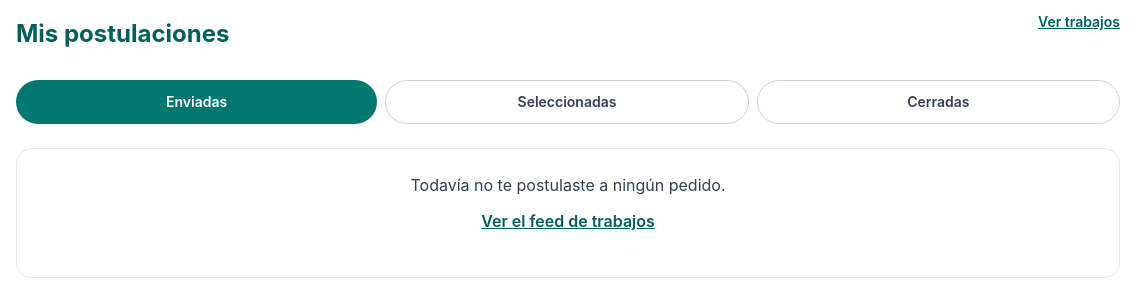
Scenario: MisPostulacionesPage › cambia de pestaña y pide el grupo correspondiente
Click the tab "Seleccionadas": coordinates (567, 102) [385,80,749,124]
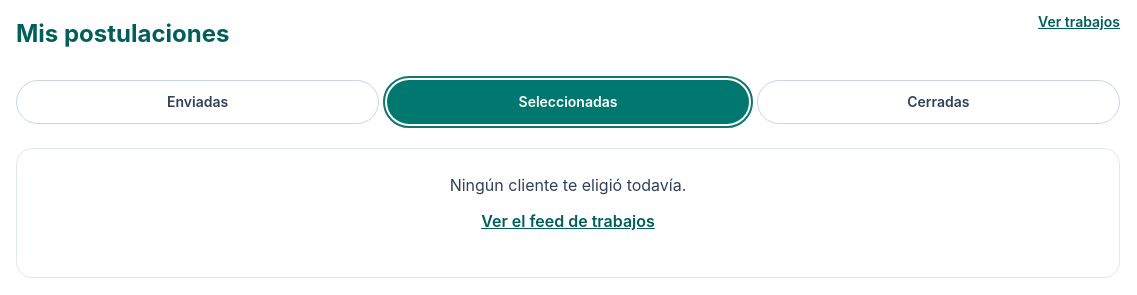
Check: the text "Ningún cliente te eligió todavía." is shown, box [450,173,686,197]
